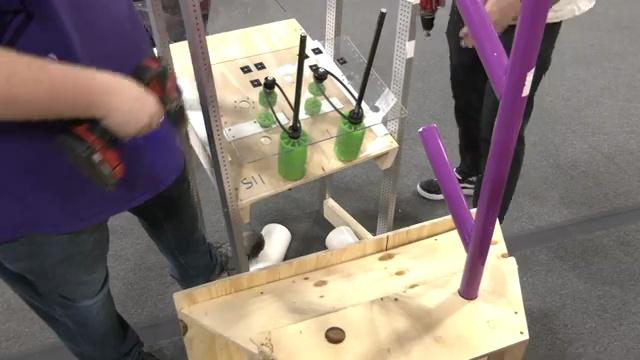CORAL: (247, 221, 291, 271), (326, 225, 359, 251)
